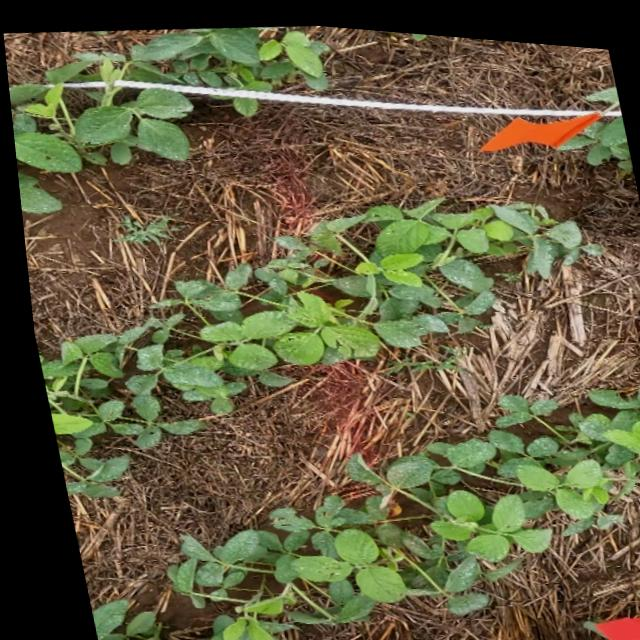grassy_weed: (376, 336, 460, 365), (108, 212, 174, 242)
soy_plant: (32, 192, 586, 494), (155, 372, 640, 640), (7, 20, 327, 171), (557, 105, 630, 160), (78, 597, 159, 640), (587, 75, 616, 87)
